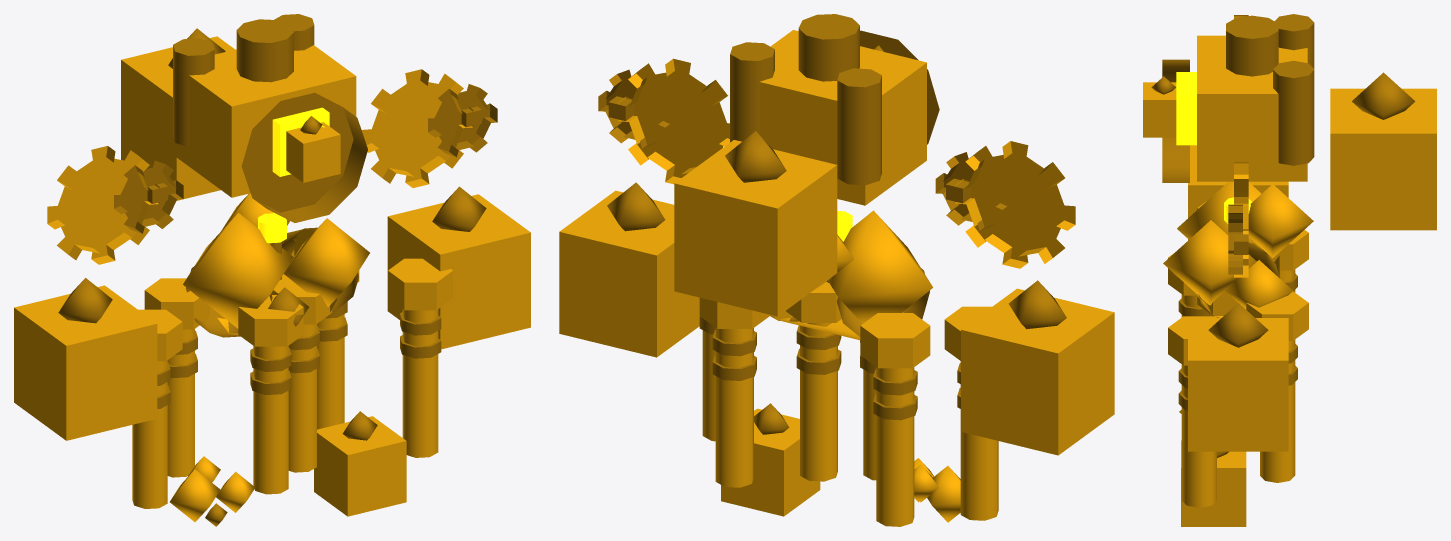
Rendered from golem_042.glb.
The picture shows the model from 3 angles, left to right: view 1: azimuth 30°, elevation 25°; view 2: azimuth 150°, elevation 25°; view 3: azimuth 270°, elevation 25°; orthographic projection. The views are drawn at different scales.
Parts seen in each view (by area): view 1: Body, Detail, Glow; view 2: Body, Detail; view 3: Body, Detail, Glow.
Part boxes in pixels (x1,y1,x2,y2): Body: (14, 36, 530, 521); Detail: (58, 14, 497, 526); Glow: (258, 107, 329, 243); Body: (559, 30, 1114, 526); Detail: (598, 14, 1066, 434); Body: (1143, 15, 1436, 526); Detail: (1151, 14, 1415, 457); Glow: (1176, 72, 1252, 223).
Bounding box in the file's own units: 1.32 × 1.27 × 0.7511.
